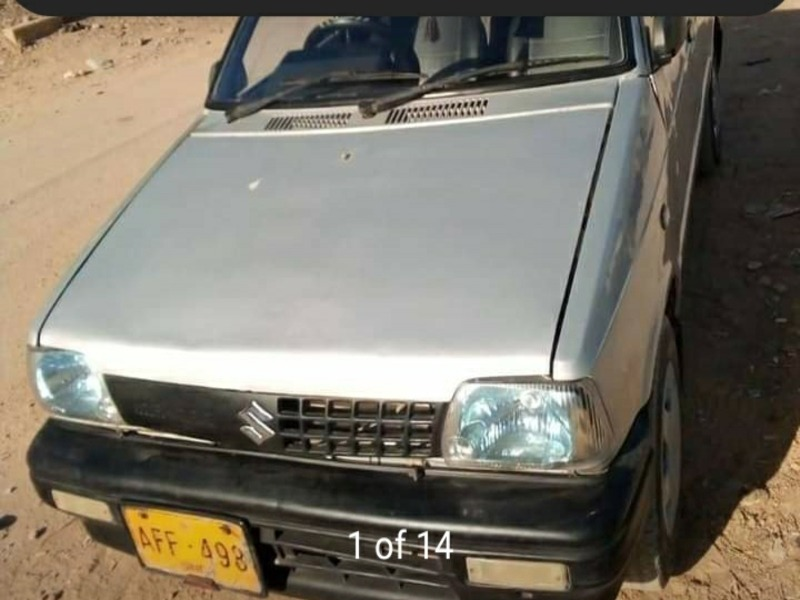License Plate: (118, 496, 268, 594)
